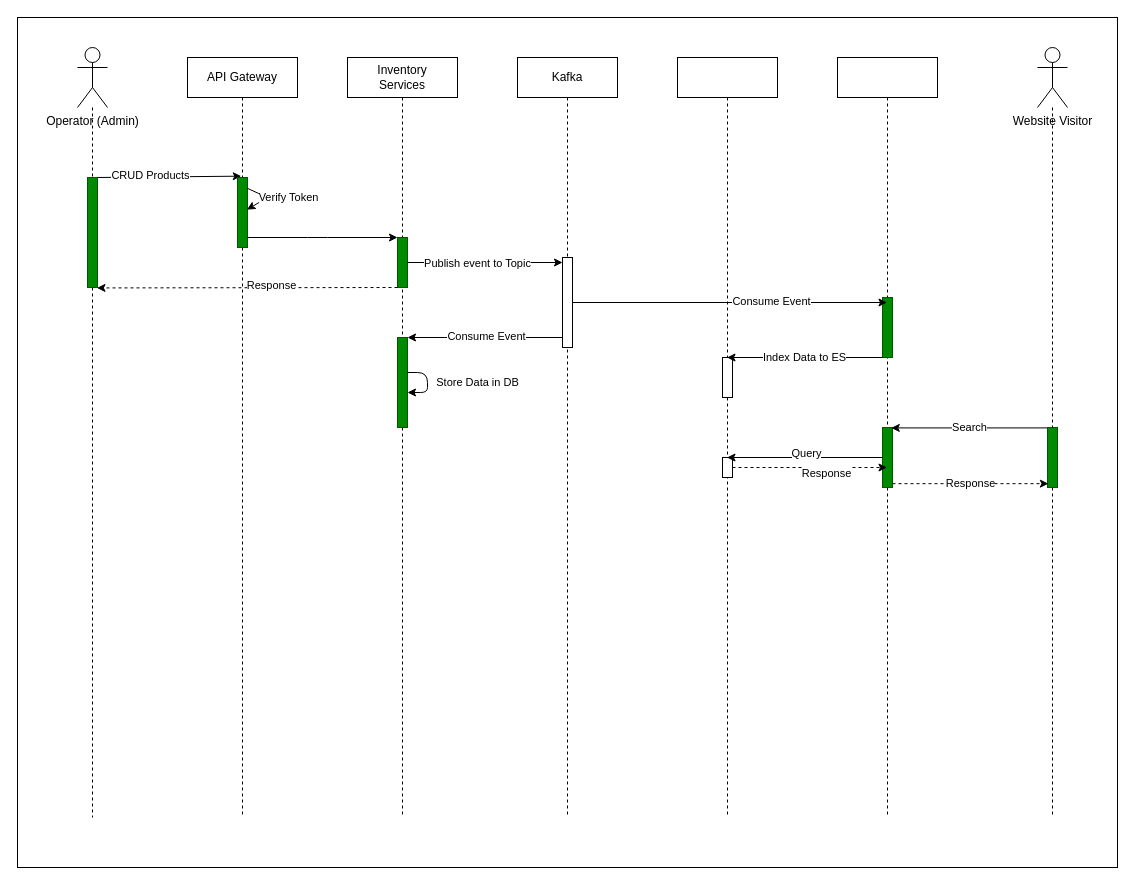
Some shapes in this 1135 by 885 pixel diagram are drawn without their labels. The box of each missing label's shape, as (x1, y1, x2, y2) in pixels:
ElasticSearch: (676, 56, 778, 818)
Search Services: (836, 56, 938, 818)
